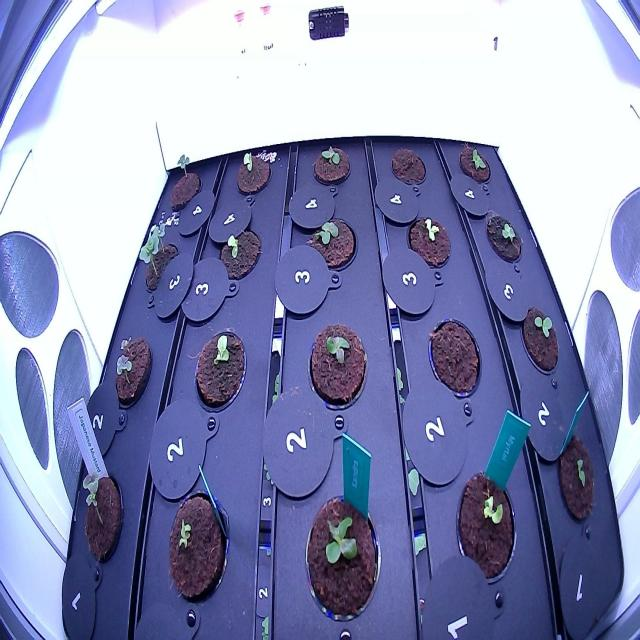germination: (158, 483, 234, 611), (450, 465, 522, 587), (188, 322, 250, 418), (73, 463, 129, 568), (553, 425, 599, 528), (109, 330, 155, 414), (136, 220, 182, 302), (516, 301, 562, 377), (404, 208, 454, 277), (214, 220, 264, 287), (165, 144, 206, 218), (482, 208, 526, 267), (232, 146, 274, 200), (456, 137, 493, 186)
pod: (424, 310, 485, 412), (386, 138, 431, 194)
young: (300, 478, 384, 630), (304, 316, 372, 412), (302, 206, 362, 280), (306, 136, 358, 193)
